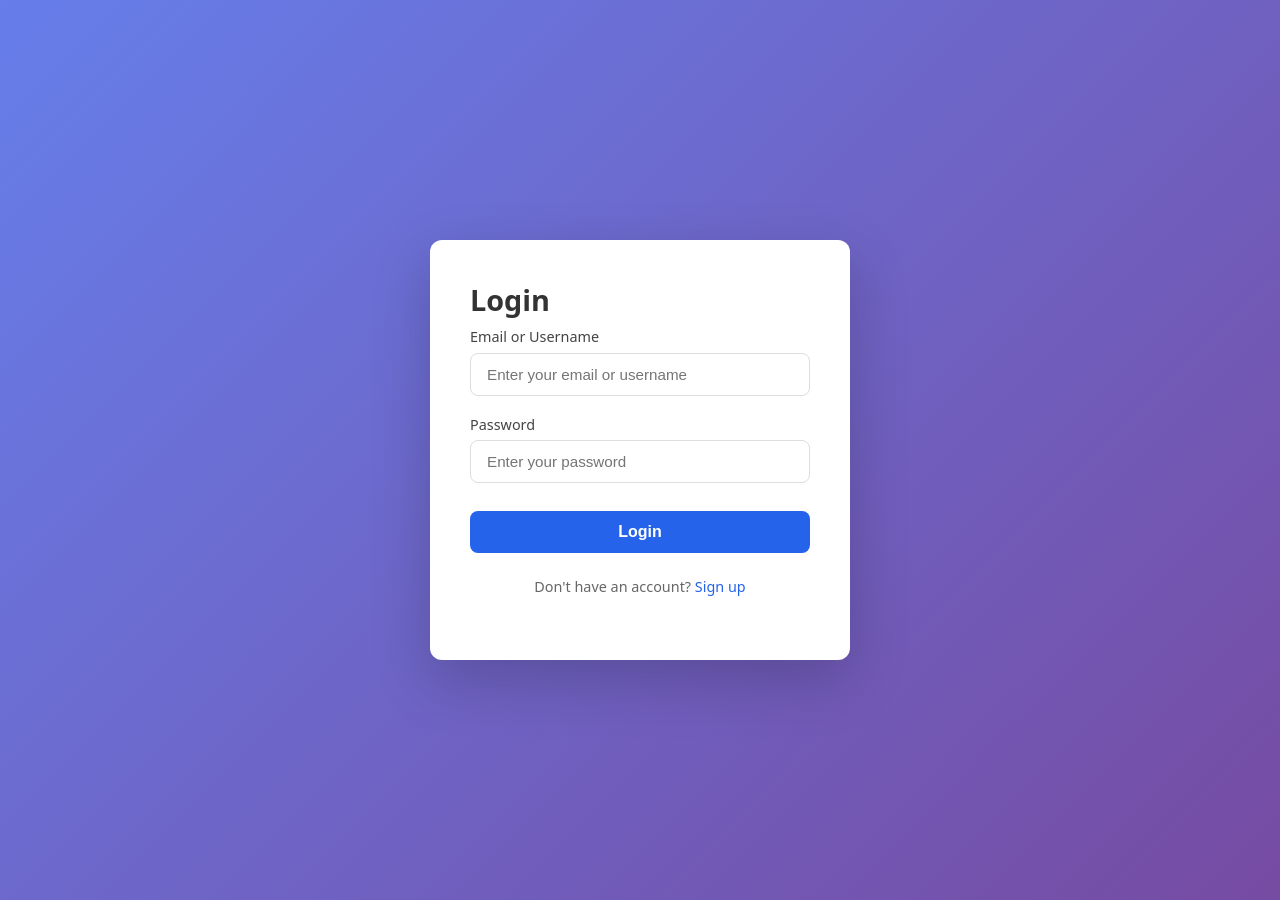
Test case: Login Page › shows error for invalid email format
Type "bademail@" into the field with placeholder "Enter your email or username" at (640, 374), box [470,353,810,396]
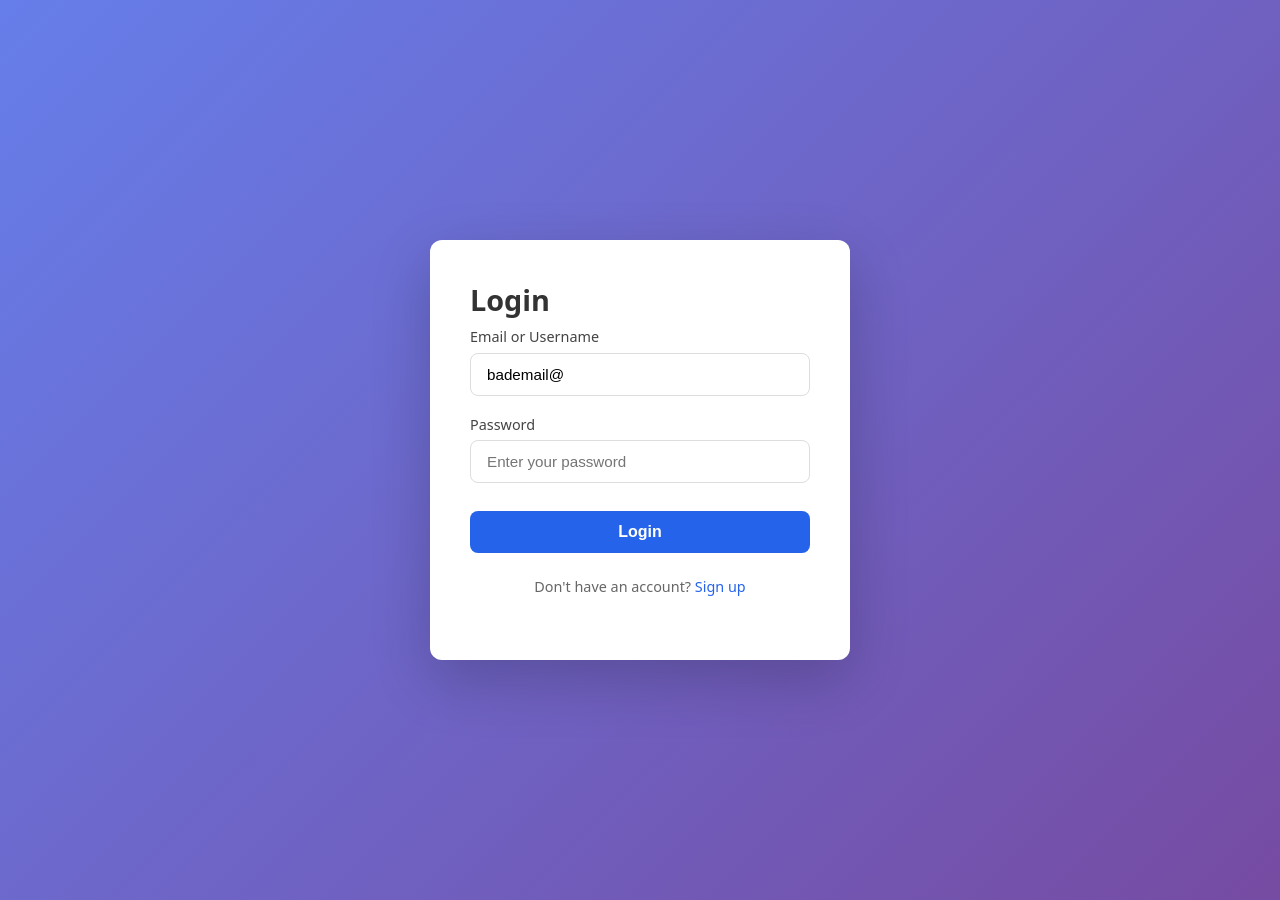
Type "password123" into the password field with placeholder "Enter your password" at (640, 462), box [470,440,810,483]
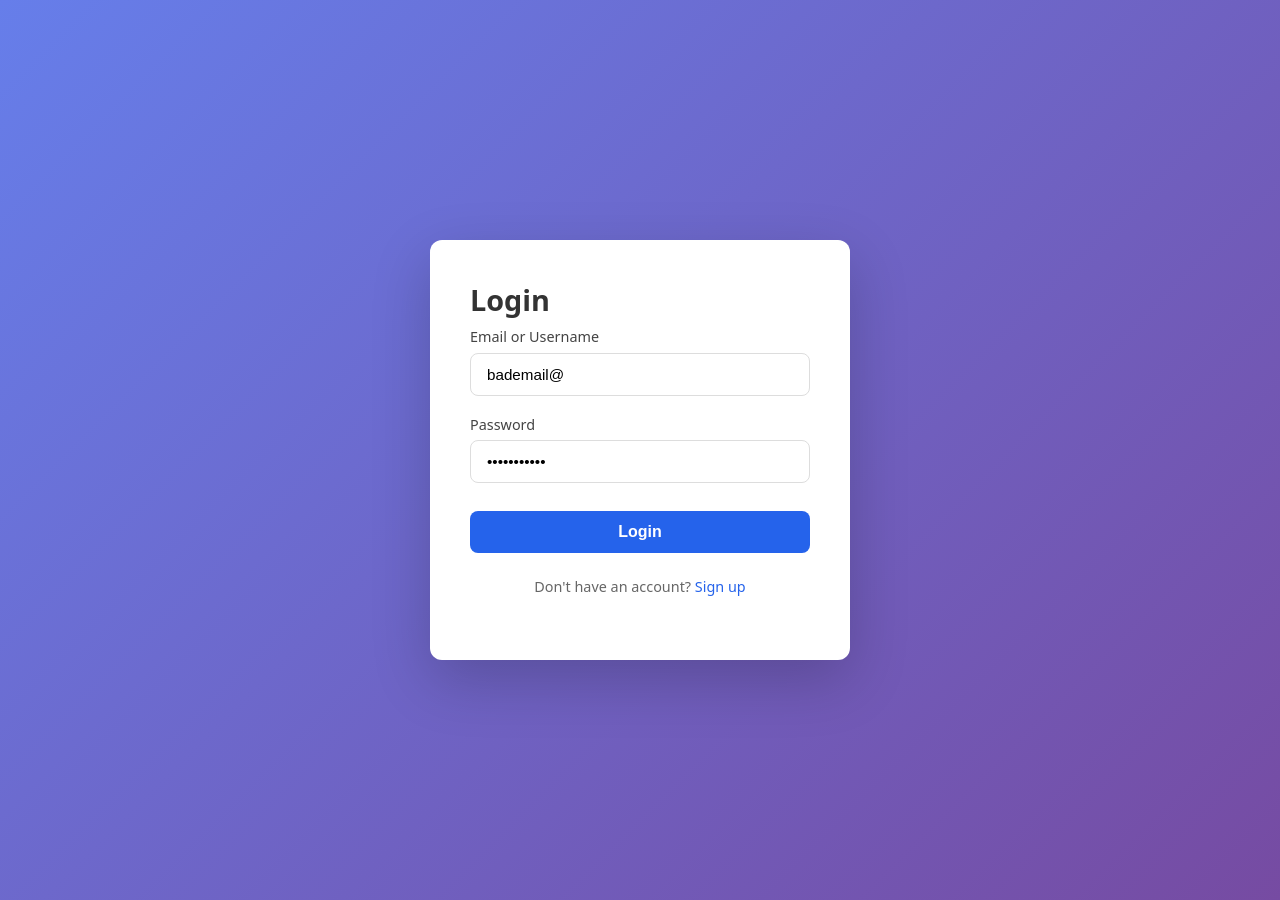
Click the button "Login" at (640, 532), box [470,511,810,553]
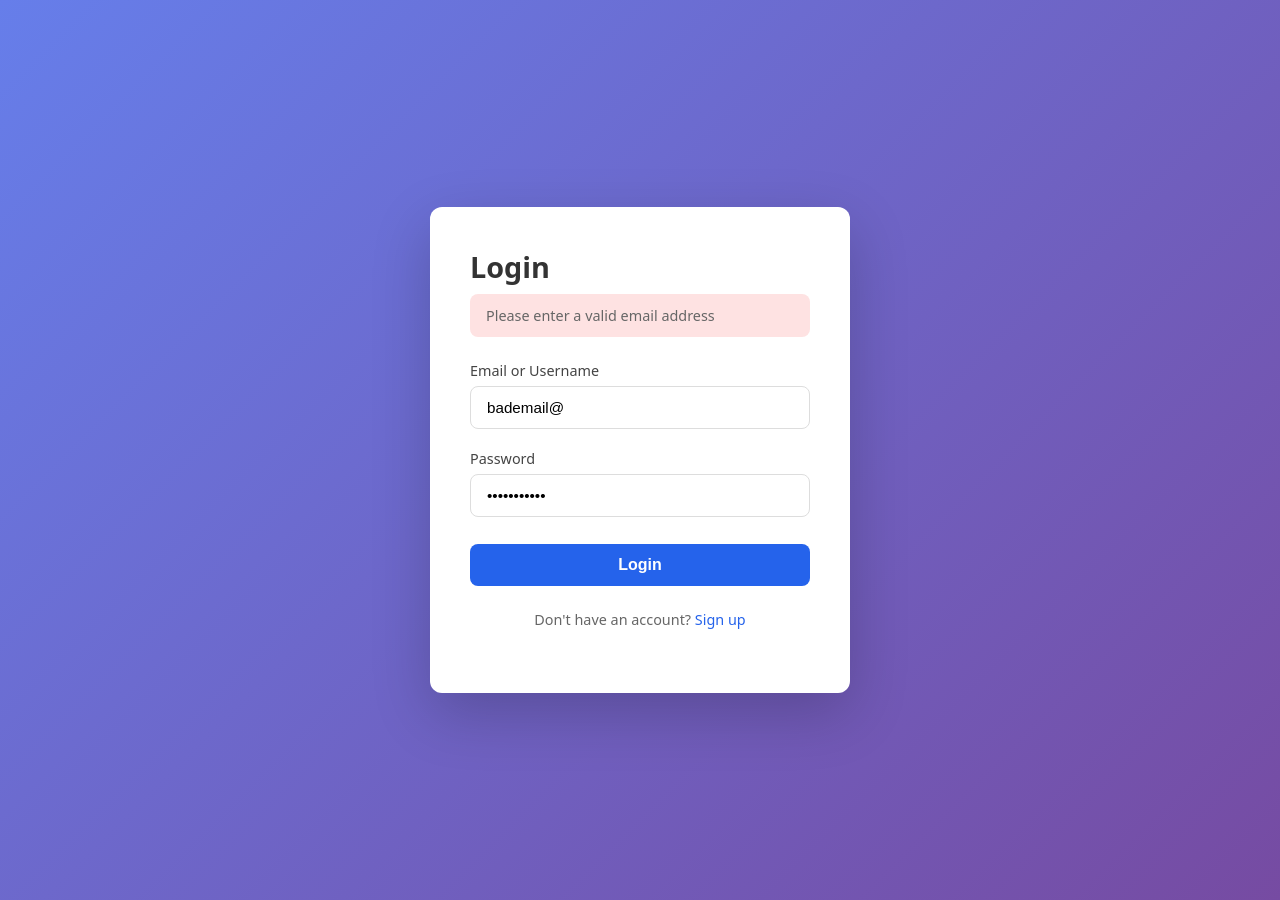
Expected: the text "Please enter a valid email address" is shown, [470,294,810,337]
